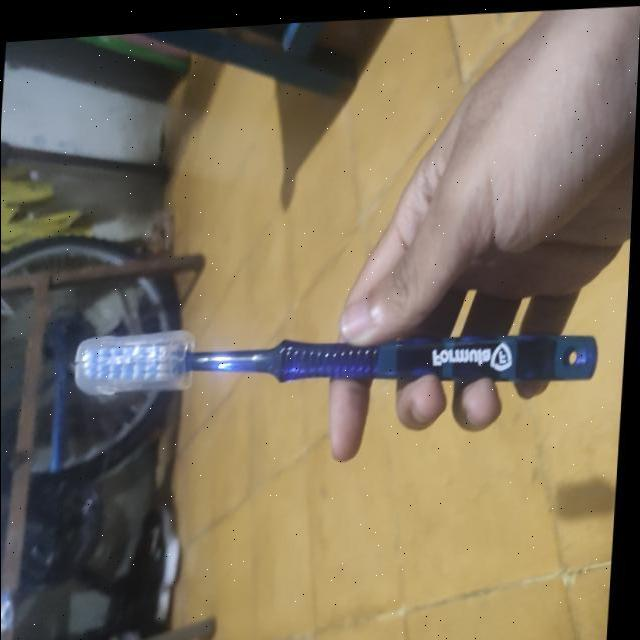toothbrush: (60, 277, 616, 443)
